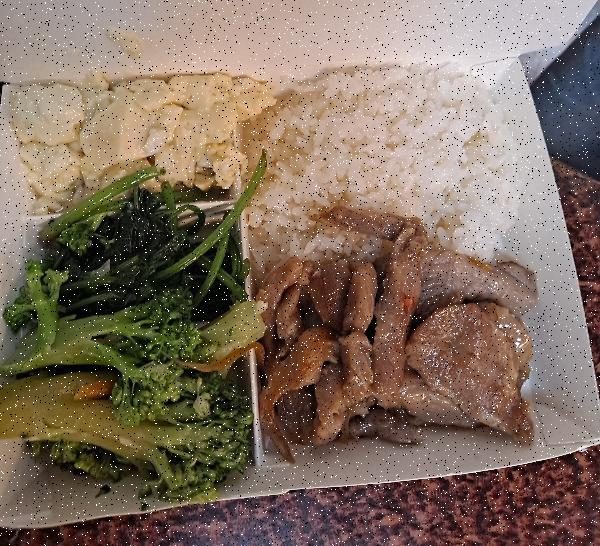box: (0, 42, 600, 536)
sauteed pork: (258, 232, 538, 456)
side dish: (0, 286, 260, 503), (7, 73, 258, 209), (18, 182, 252, 314)
white rice: (241, 57, 518, 260)
